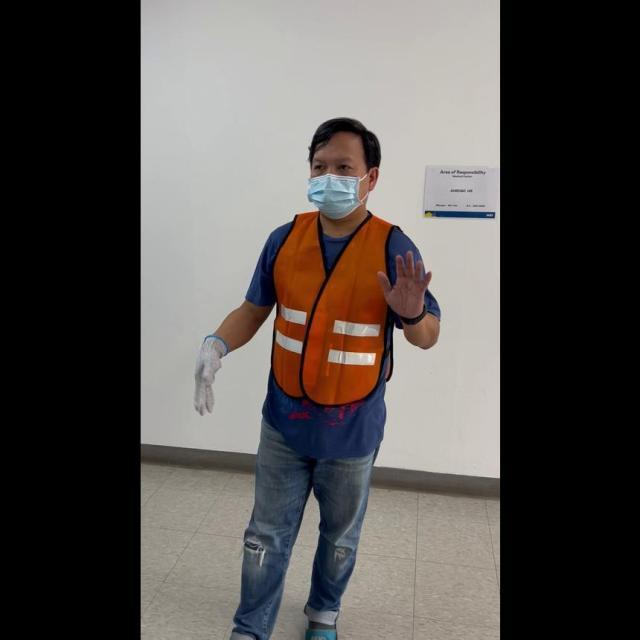bare_hand: (375, 244, 432, 320)
gloved_hand: (190, 331, 229, 415)
